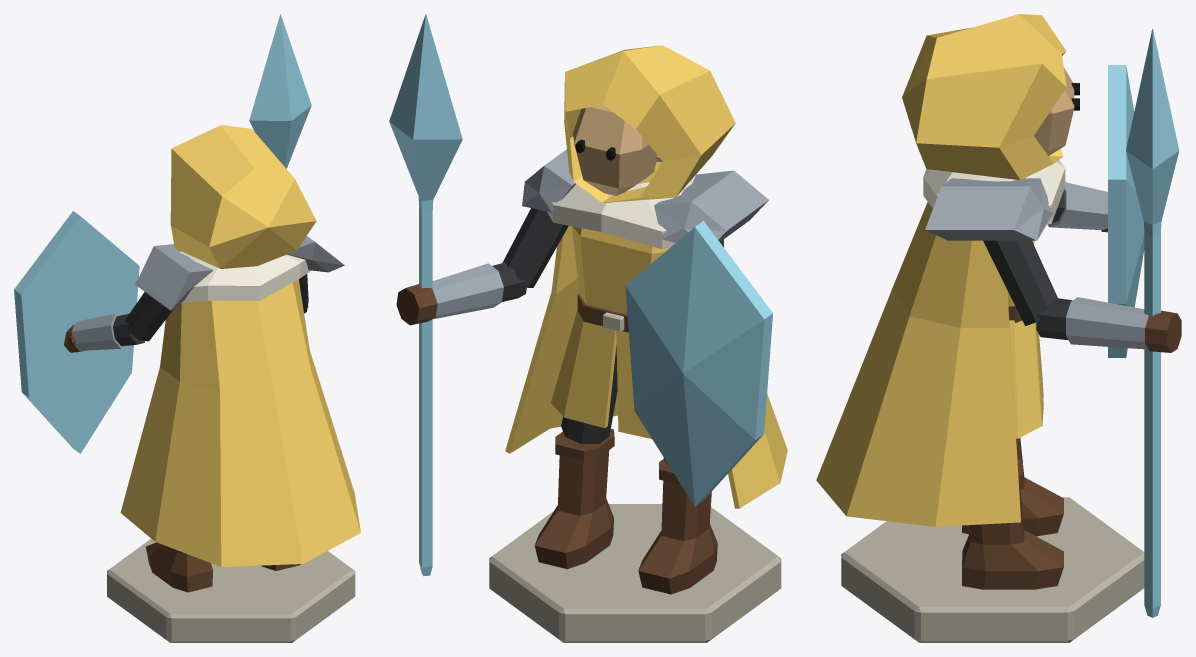
File: human_frostwarden_t6.glb
3 renders of one model, left to right at view 1: azimuth 30°, elevation 25°; view 2: azimuth 150°, elevation 25°; view 3: azimuth 270°, elevation 25°, orthographic. The views are drawn at different scales.
Parts seen in each view (by area): view 1: Broad_Pointed_Back_Cape, frost_large_hexagonal_ice_shield, Pointed_Open_Hood_Shell, Foundation_Hexagonal_Stone, frost_entire_continuous_ice_spear, frost_one_connected_ivory_winter_collar, frost_left_shoulder_plate, Boot_-1, left_bracer, left_upper_sleeve, frost_right_shoulder_plate, left_lower_sleeve; view 2: frost_large_hexagonal_ice_shield, Foundation_Hexagonal_Stone, Pointed_Open_Hood_Shell, frost_entire_continuous_ice_spear, Broad_Pointed_Back_Cape, Boot_1, Boot_-1, frost_left_shoulder_plate, Angular_Face, Continuous_Tunic_Bodice, frost_one_connected_ivory_winter_collar, Split_Tunic_Front_1 (+10 smaller); view 3: Broad_Pointed_Back_Cape, Foundation_Hexagonal_Stone, Pointed_Open_Hood_Shell, frost_entire_continuous_ice_spear, frost_large_hexagonal_ice_shield, frost_right_shoulder_plate, Boot_1, right_upper_sleeve, right_bracer, Continuous_Split_Tunic_Skirt, Boot_-1, left_bracer (+4 smaller).
Boxes of the visible parts, left/top/right/bottom form: Broad_Pointed_Back_Cape: left=120, top=279, right=360, bottom=566; frost_large_hexagonal_ice_shield: left=14, top=211, right=139, bottom=453; Pointed_Open_Hood_Shell: left=170, top=125, right=316, bottom=268; Foundation_Hexagonal_Stone: left=107, top=538, right=355, bottom=642; frost_entire_continuous_ice_spear: left=249, top=14, right=311, bottom=168; frost_one_connected_ivory_winter_collar: left=178, top=250, right=310, bottom=303; frost_left_shoulder_plate: left=135, top=244, right=213, bottom=310; Boot_-1: left=145, top=542, right=213, bottom=592; left_bracer: left=72, top=312, right=130, bottom=350; left_upper_sleeve: left=124, top=292, right=173, bottom=341; frost_right_shoulder_plate: left=287, top=236, right=344, bottom=272; left_lower_sleeve: left=113, top=314, right=144, bottom=346; frost_large_hexagonal_ice_shield: left=625, top=221, right=772, bottom=506; Foundation_Hexagonal_Stone: left=489, top=504, right=781, bottom=642; Pointed_Open_Hood_Shell: left=564, top=45, right=735, bottom=202; frost_entire_continuous_ice_spear: left=389, top=14, right=462, bottom=576; Broad_Pointed_Back_Cape: left=505, top=226, right=787, bottom=508; Boot_1: left=534, top=450, right=613, bottom=569; Boot_-1: left=638, top=480, right=717, bottom=594; frost_left_shoulder_plate: left=654, top=170, right=768, bottom=242; Angular_Face: left=573, top=104, right=657, bottom=195; Continuous_Tunic_Bodice: left=572, top=226, right=670, bottom=314; frost_one_connected_ivory_winter_collar: left=547, top=157, right=696, bottom=249; Split_Tunic_Front_1: left=564, top=321, right=616, bottom=428; Broad_Pointed_Back_Cape: left=816, top=202, right=1020, bottom=526; Foundation_Hexagonal_Stone: left=841, top=497, right=1144, bottom=642; Pointed_Open_Hood_Shell: left=902, top=14, right=1066, bottom=180; frost_entire_continuous_ice_spear: left=1126, top=28, right=1179, bottom=617; frost_large_hexagonal_ice_shield: left=1108, top=65, right=1144, bottom=357; frost_right_shoulder_plate: left=925, top=178, right=1053, bottom=240; Boot_1: left=962, top=486, right=1063, bottom=589; right_upper_sleeve: left=983, top=240, right=1057, bottom=326; right_bracer: left=1066, top=297, right=1148, bottom=349; Continuous_Split_Tunic_Skirt: left=1009, top=320, right=1041, bottom=438; Boot_-1: left=962, top=438, right=1063, bottom=536; left_bracer: left=1048, top=182, right=1107, bottom=230.
Size of the model in its own units: 1.33 by 2.1 by 1.11.
